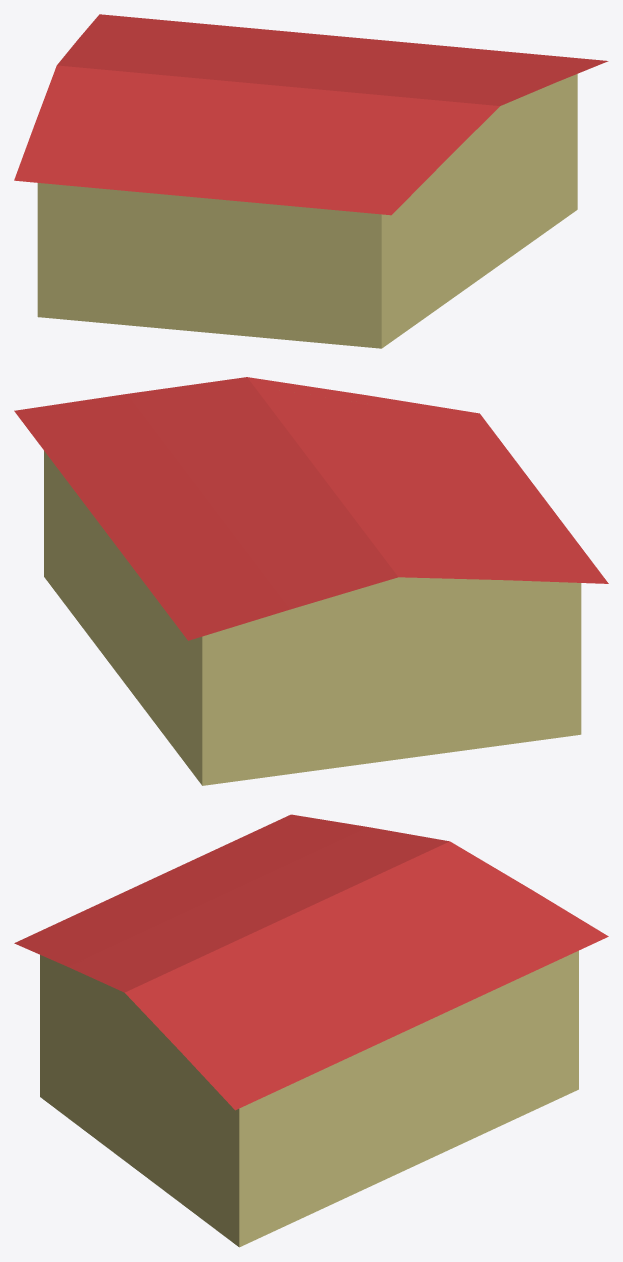
3 views of the same model, one above another, from view 1: azimuth 30°, elevation 25°; view 2: azimuth 150°, elevation 25°; view 3: azimuth 270°, elevation 25° (orthographic). The views are drawn at different scales.
Size of the model in its own units: 16.44 by 13.97 by 4.83.
